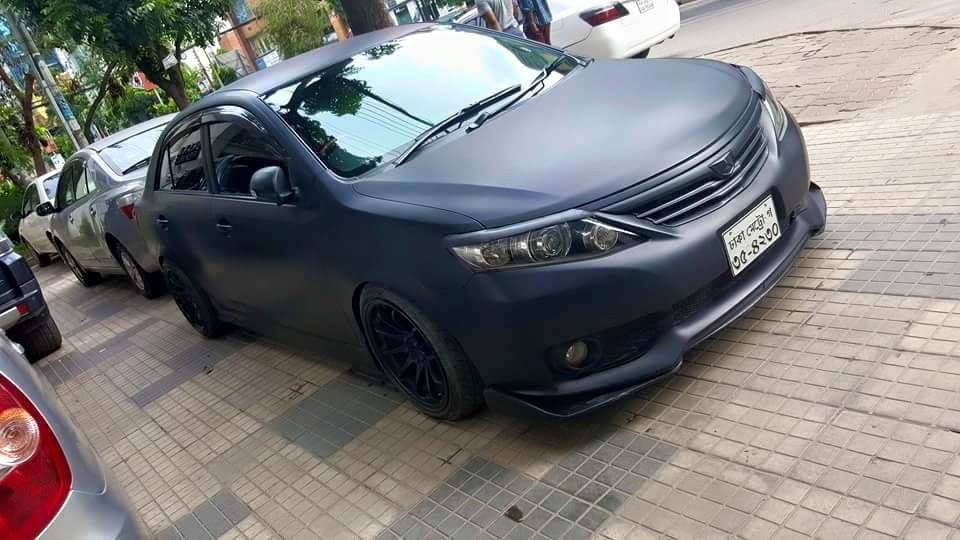registration_plate: (721, 194, 782, 279)
